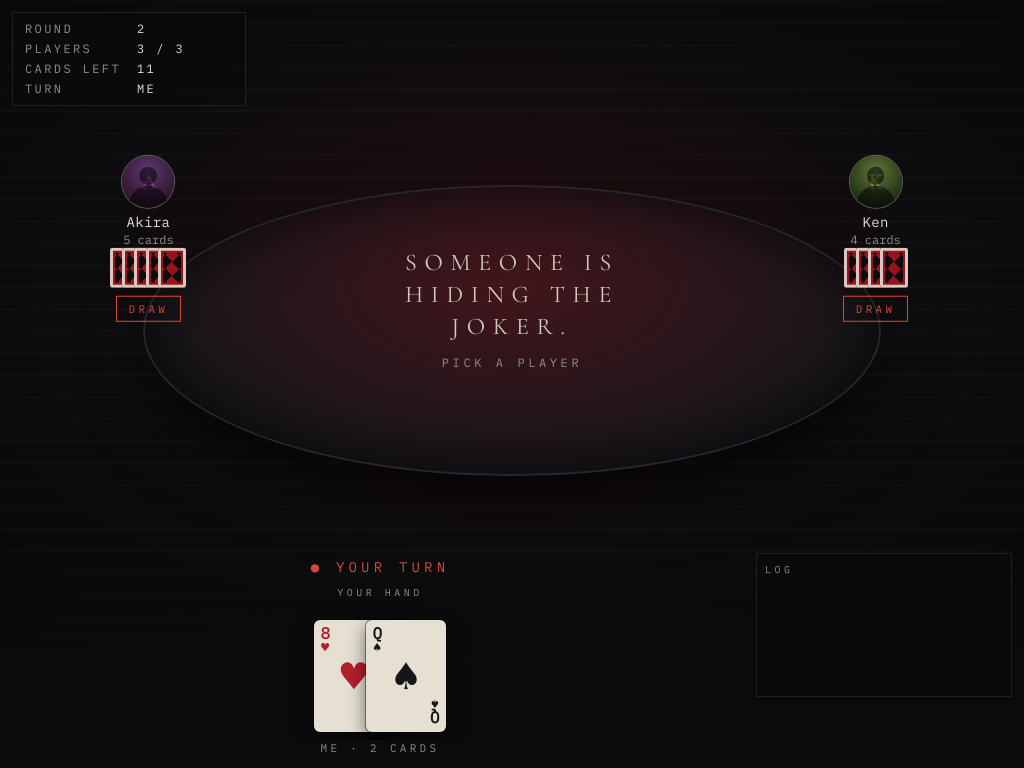
it: opponent slots render in the server's shuffled order › does NOT render a positional fallback when no slots were issued
Click the button with aria-label "draw from akira, 5 cards": [148, 239] box [76,155,220,322]
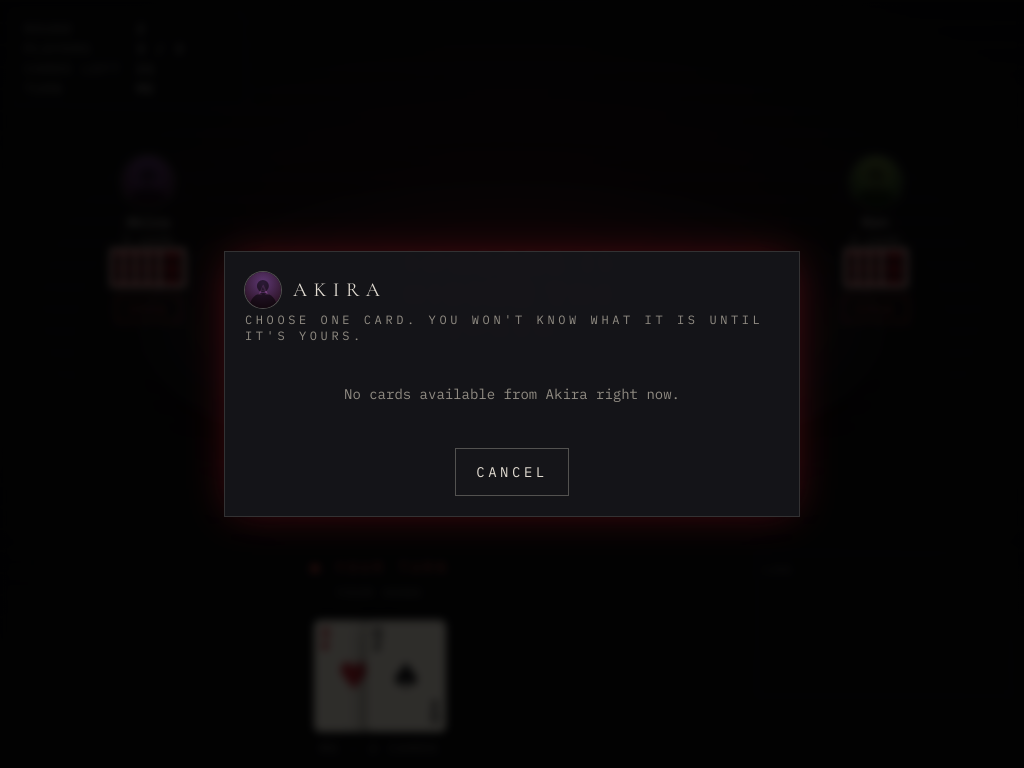
Now the text "No cards available from Akira right now." is shown, box [344,385,680,403]
